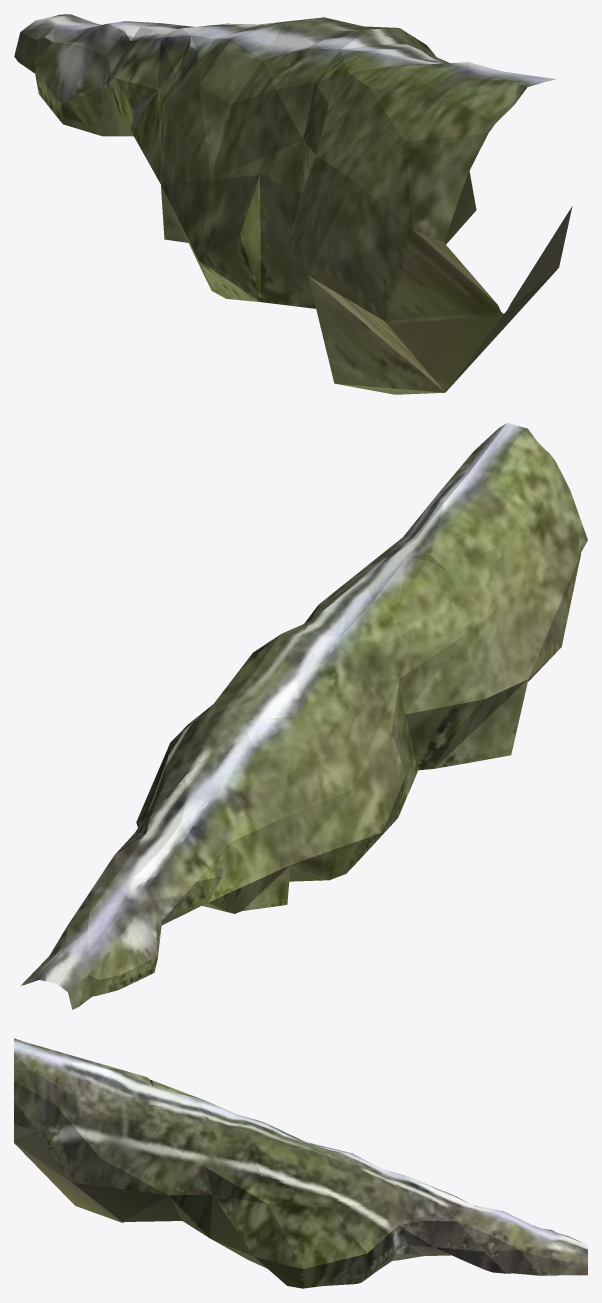
The picture shows the model from 3 angles, top to bottom: view 1: azimuth 30°, elevation 25°; view 2: azimuth 150°, elevation 25°; view 3: azimuth 270°, elevation 25°; orthographic projection. The views are drawn at different scales.
Bounding box in the file's own units: 0.9765 × 1.15 × 2.95.
Materials: 2 (2 with a texture image).
